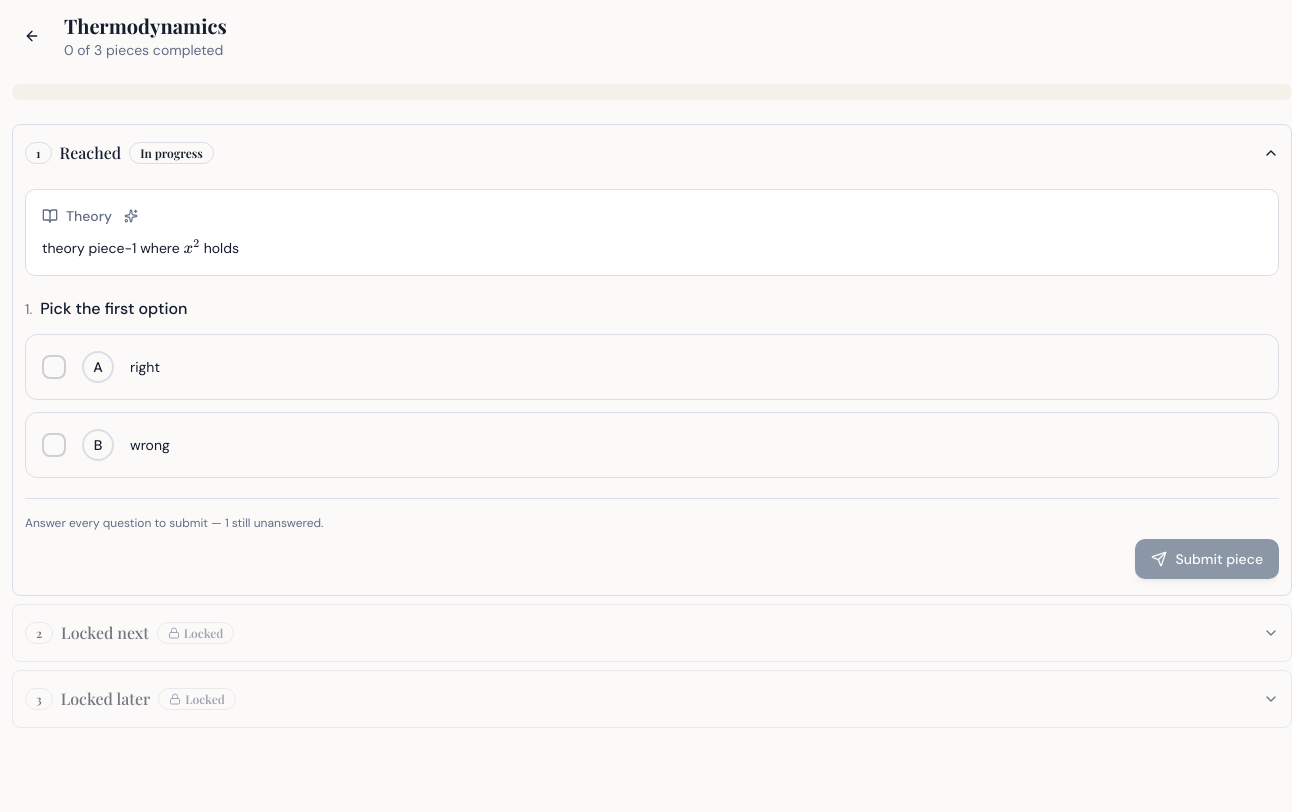
Test: StudyGuidePlayer (#1007) › does not claim success when the post-submit refetch fails on study_guide_progress
Later steps or results of the test are not shown.
What coordinates should you click on to do the following:
click the checkbox labelled "A right"
I would click on:
 (652, 367)
Its box is [25,334,1279,400].
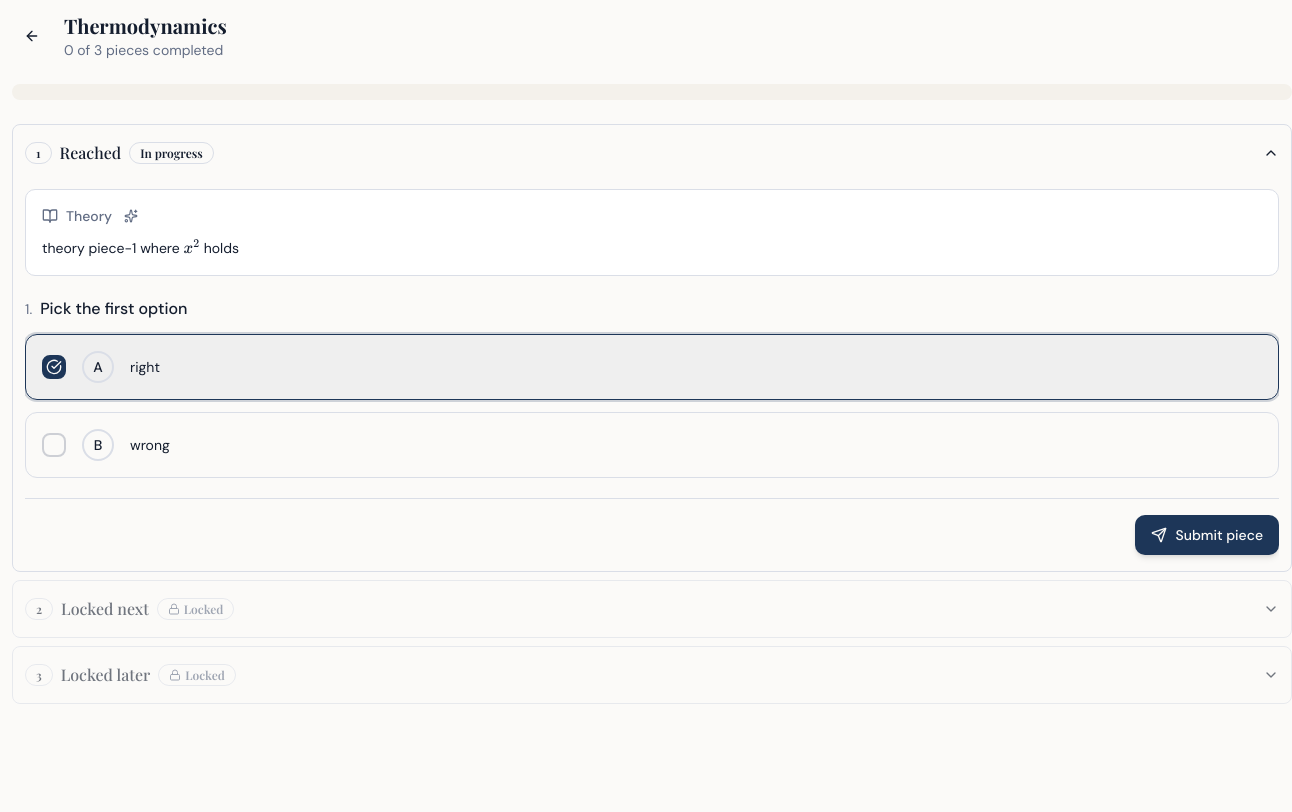
Result: the button "Submit piece" is enabled at [1136,515,1279,555]
